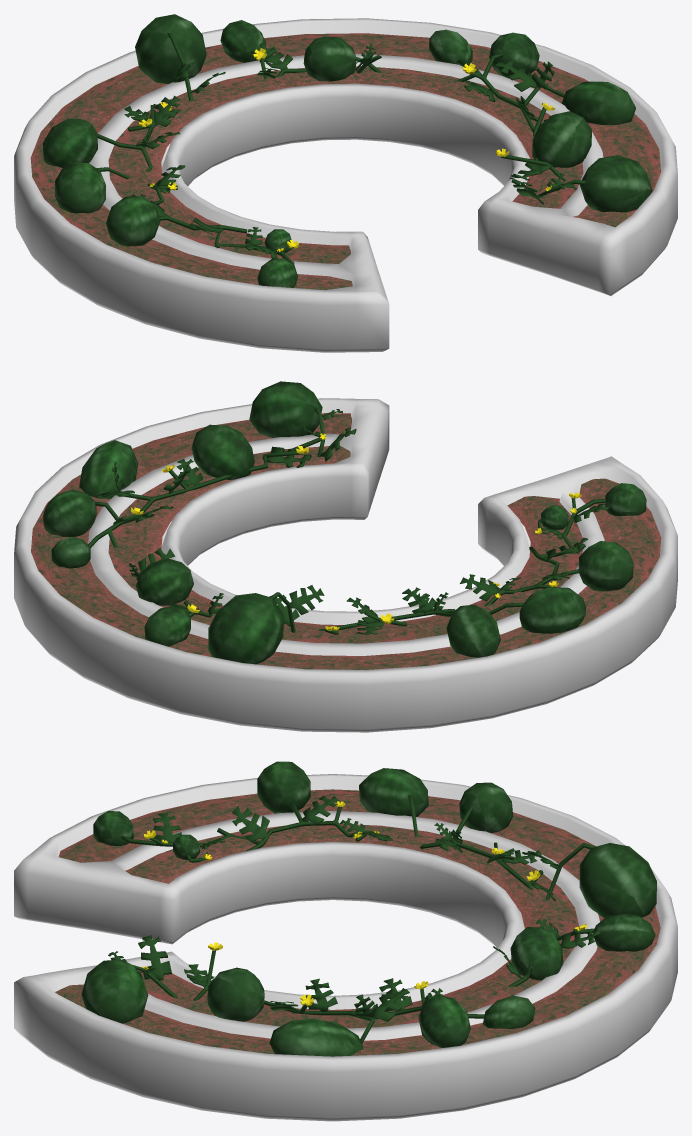
The model's file is garden_melon.glb.
3 views of the same model, one above another, from view 1: azimuth 30°, elevation 25°; view 2: azimuth 150°, elevation 25°; view 3: azimuth 270°, elevation 25° (orthographic). The views are drawn at different scales.
Parts seen in each view (by area): view 1: garden_melon-col, garden_vine; view 2: garden_melon-col, garden_vine; view 3: garden_melon-col, garden_vine.
Part boxes in pixels (<box>): garden_melon-col: <box>14,14,677,352</box>; garden_vine: <box>96,33,585,264</box>; garden_melon-col: <box>14,381,677,732</box>; garden_vine: <box>88,407,610,634</box>; garden_melon-col: <box>14,761,677,1121</box>; garden_vine: <box>108,795,599,1043</box>.
Size of the model in its own units: 8 by 1.42 by 7.7.
Materials: 2 (2 with a texture image).
